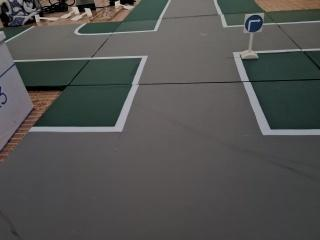right: (237, 10, 272, 36)
